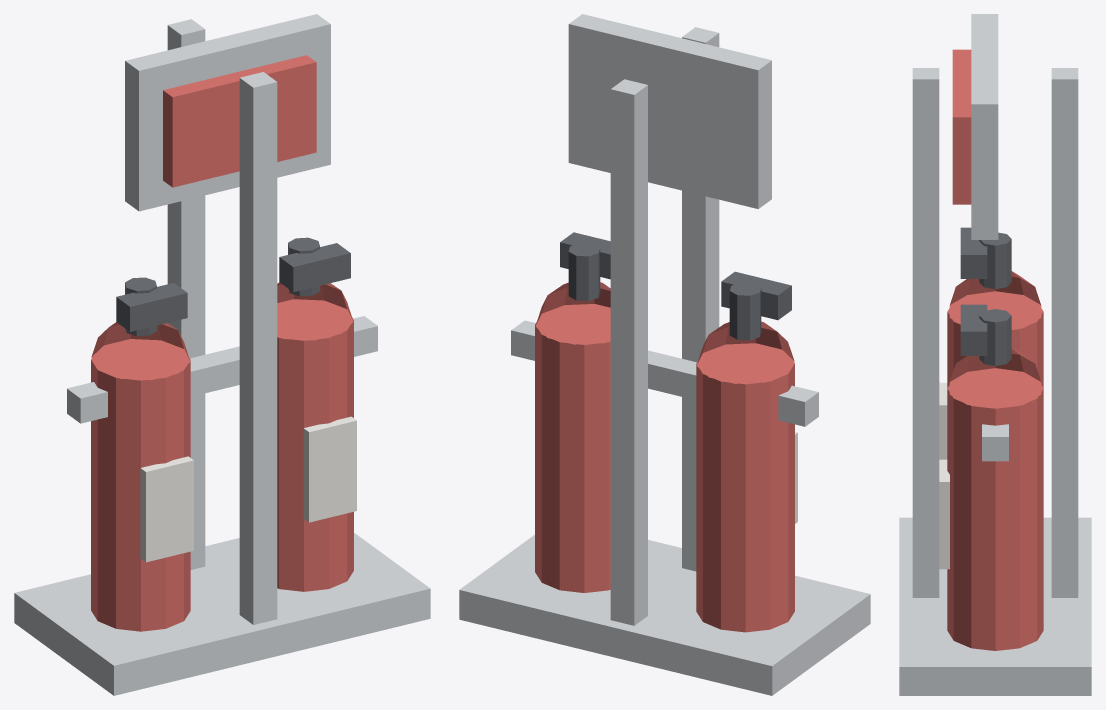
The model's file is hot-air-balloon-festival-fire-extinguisher-stand-de38632e__38523.glb.
3 views of the same model, side by side, from view 1: azimuth 30°, elevation 25°; view 2: azimuth 150°, elevation 25°; view 3: azimuth 270°, elevation 25° (orthographic). The views are drawn at different scales.
Visible parts, largest first — view 1: fire-extinguisher-stand-steel, fire-extinguisher-stand-canvasA, fire-extinguisher-stand-canvasB, fire-extinguisher-stand-charcoal; view 2: fire-extinguisher-stand-steel, fire-extinguisher-stand-canvasA, fire-extinguisher-stand-charcoal; view 3: fire-extinguisher-stand-steel, fire-extinguisher-stand-canvasA, fire-extinguisher-stand-charcoal, fire-extinguisher-stand-canvasB.
Part boxes in pixels (x1,y1,x2,y2): fire-extinguisher-stand-steel: [14, 14, 430, 695]; fire-extinguisher-stand-canvasA: [91, 55, 353, 631]; fire-extinguisher-stand-canvasB: [140, 416, 356, 562]; fire-extinguisher-stand-charcoal: [116, 237, 350, 336]; fire-extinguisher-stand-steel: [459, 14, 870, 695]; fire-extinguisher-stand-canvasA: [535, 282, 794, 632]; fire-extinguisher-stand-charcoal: [560, 232, 791, 340]; fire-extinguisher-stand-steel: [899, 14, 1091, 695]; fire-extinguisher-stand-canvasA: [947, 49, 1043, 650]; fire-extinguisher-stand-charcoal: [960, 227, 1011, 365]; fire-extinguisher-stand-canvasB: [939, 382, 949, 569].
Bounding box in the file's own units: 0.66 × 1.16 × 0.36.
